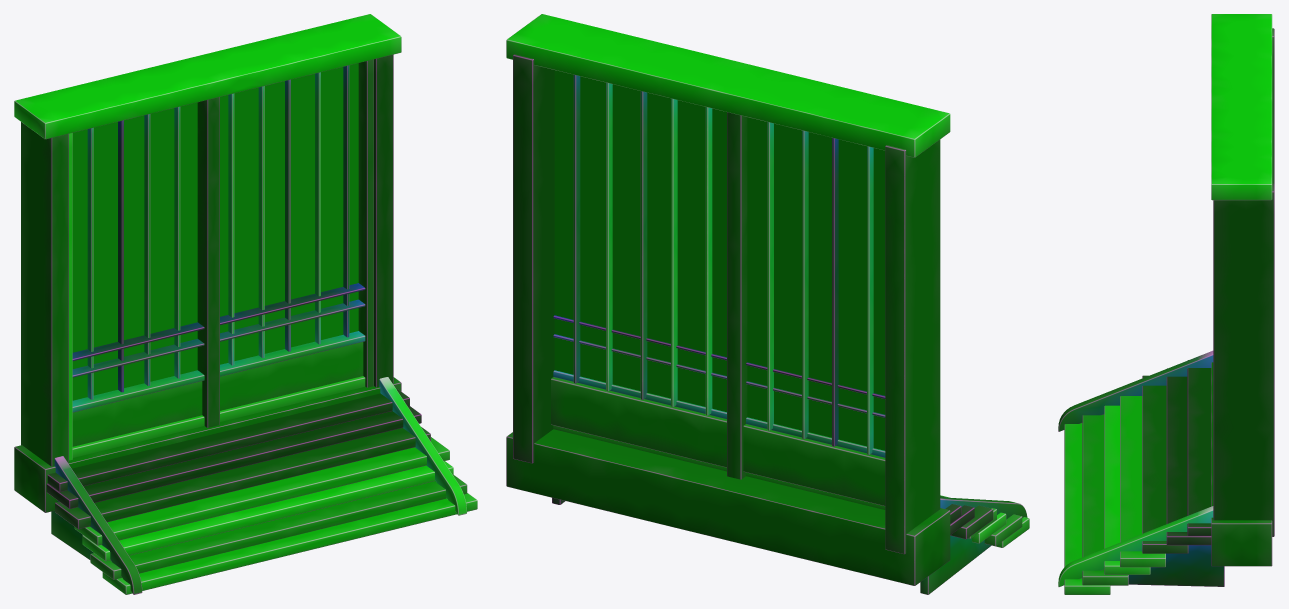
Rendered from door_400x350_04.fbx.
3 views of the same model, side by side, from view 1: azimuth 30°, elevation 25°; view 2: azimuth 150°, elevation 25°; view 3: azimuth 270°, elevation 25° (orthographic). The views are drawn at different scales.
Visible parts, largest first — view 1: door_400x350_04; view 2: door_400x350_04; view 3: door_400x350_04.
Boxes of the visible parts, box(x1,y1,x2,y2) form: door_400x350_04: box(14, 14, 477, 594); door_400x350_04: box(506, 14, 1029, 594); door_400x350_04: box(1058, 14, 1274, 594).
Size of the model in its own units: 2.17 by 2.41 by 1.15.
